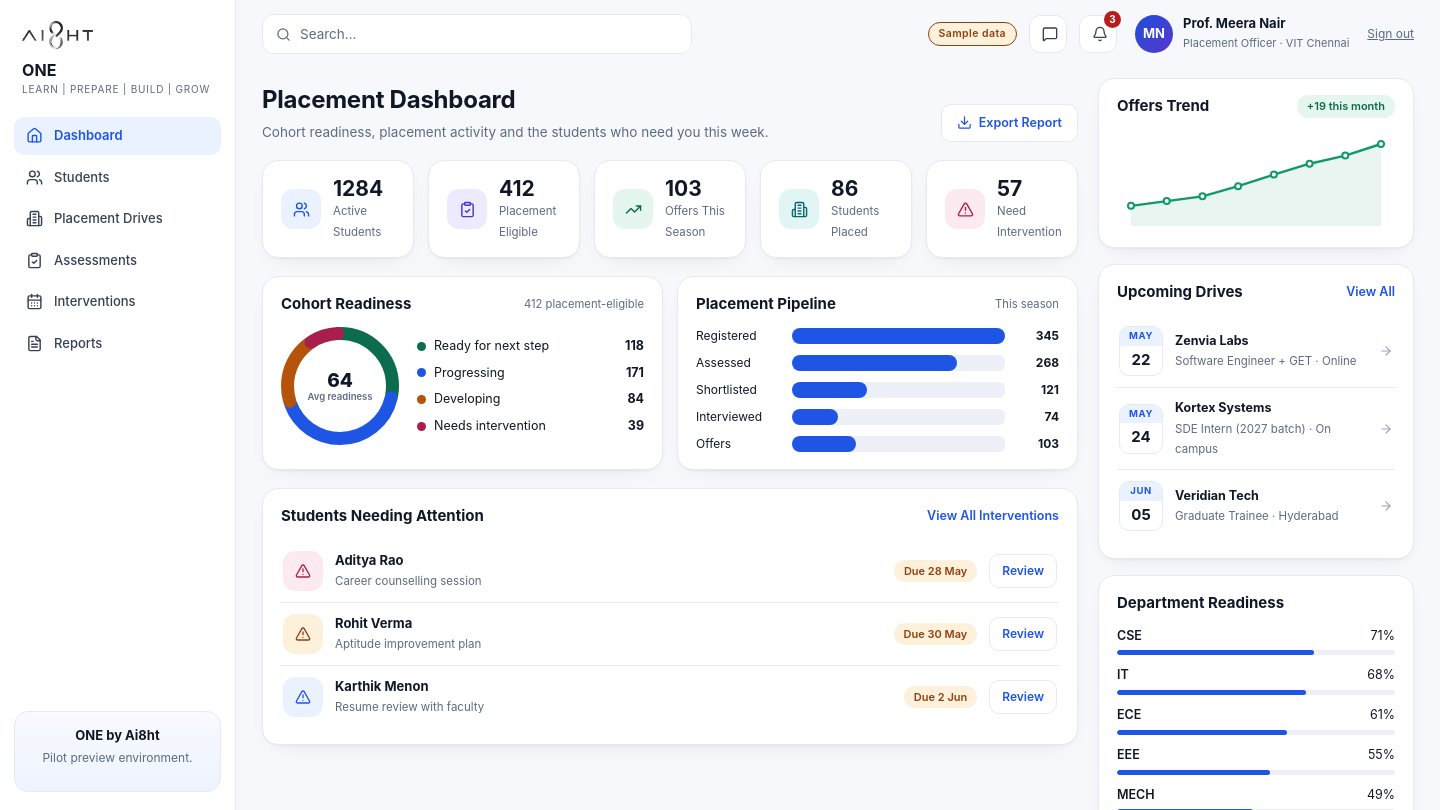
Test case: persona resolution and cross-portal coherence › shows the placement officer her college, with Arjun in the roster at his real number
The image size is (1440, 810).
Check: the heading "Placement Dashboard" is shown, box [262,85,516,114]
Check: the text "Sample data" is shown, box [928,22,1017,46]
What coordinates should you click on to do the following:
click the button "Students"
I would click on:
 (118, 177)
Its box is [14,158,221,196].
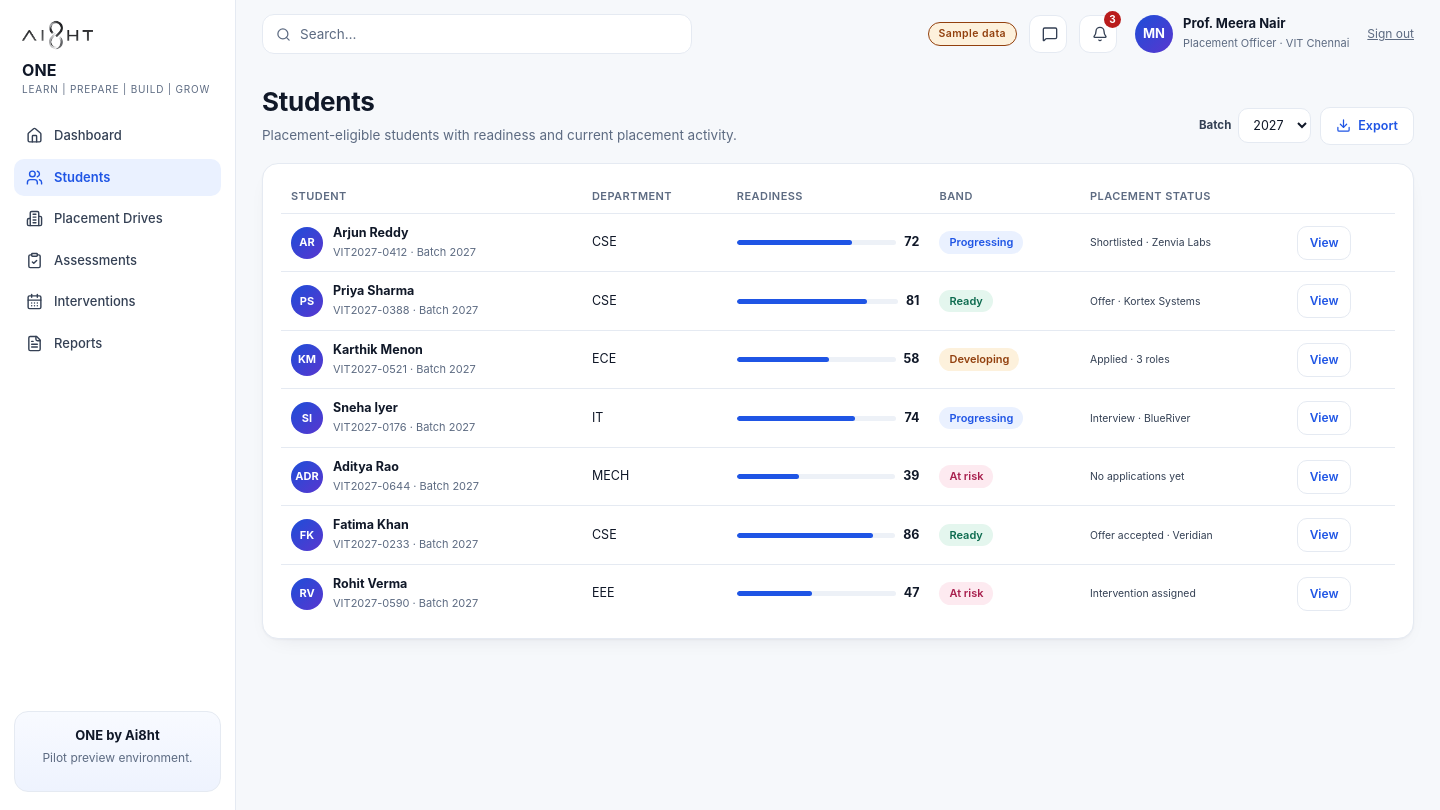
Check: the text "Arjun Reddy" is shown, box [333,225,408,240]
Check: the text "Shortlisted · Zenvia Labs" is shown, box [1090,236,1211,249]
What coordinates should you click on to do the following:
click the button "Placement Drives"
I would click on:
 (118, 219)
Its box is [14,200,221,238].
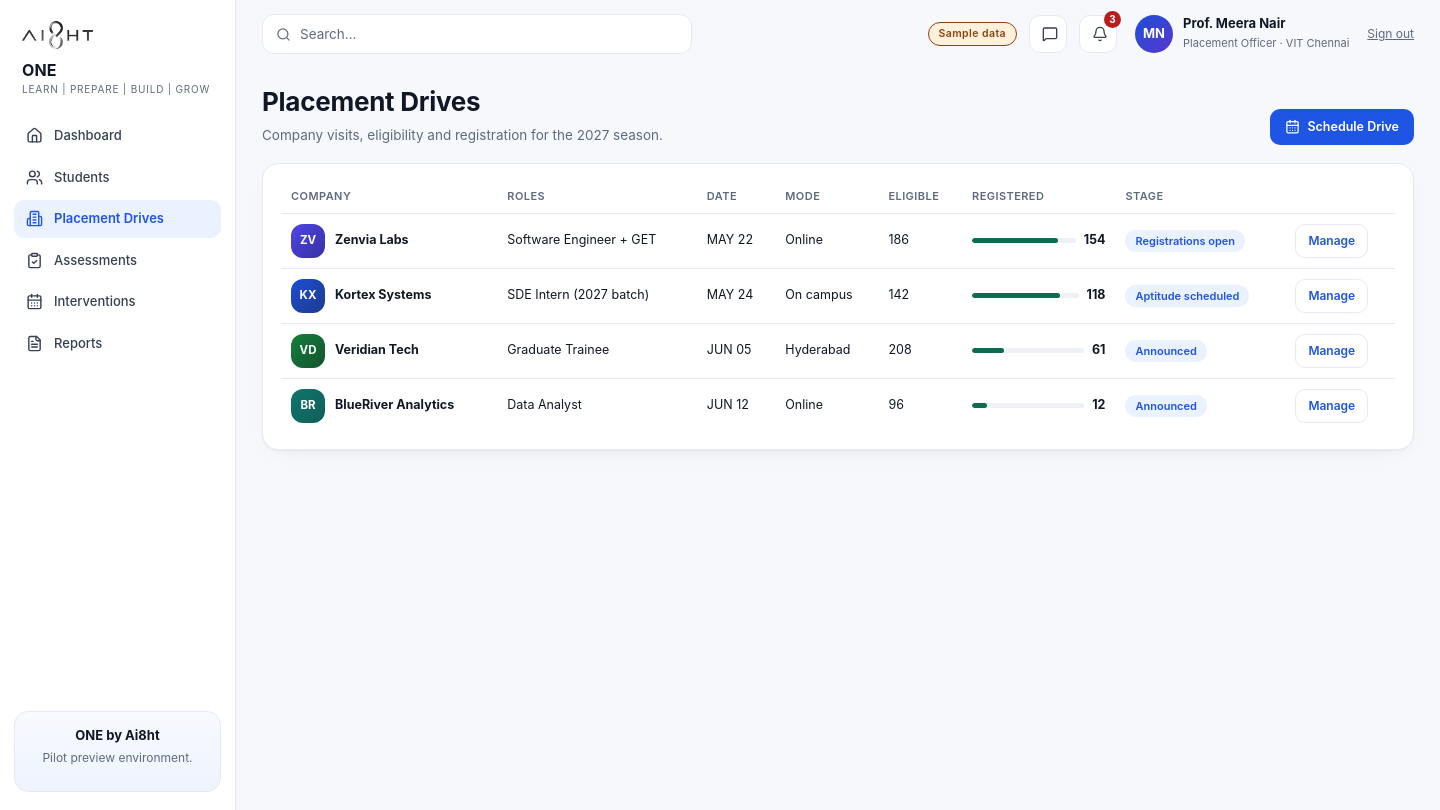
Check: the heading "Placement Drives" is shown, box [262,86,480,117]
What coordinates should you click on to do the following:
click the button "Reports"
I would click on:
 (118, 343)
Its box is [14,324,221,362].
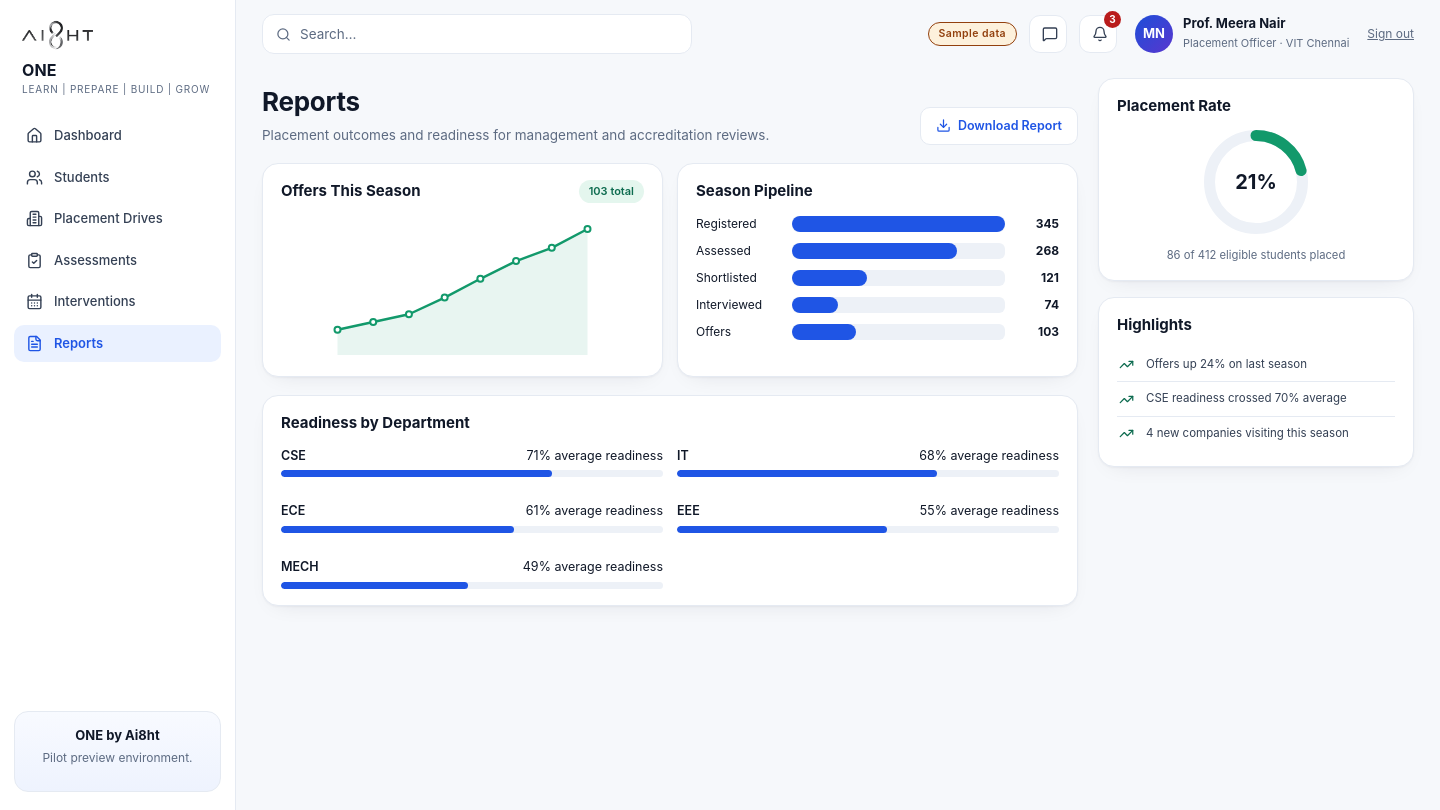
Check: the heading "Reports" is shown, box [262,86,360,117]
